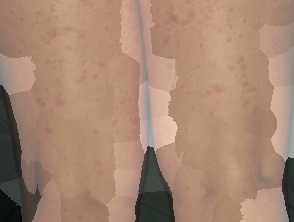SJS-TEN: (4, 0, 147, 156), (137, 0, 280, 149)
